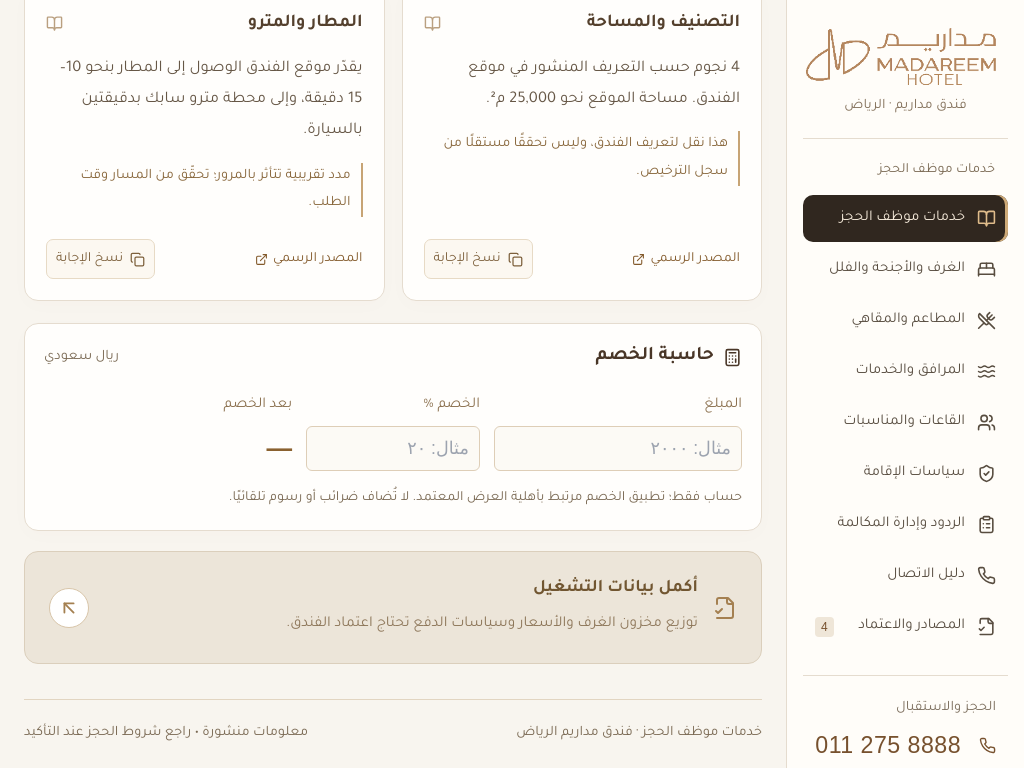
Test case: Madareem expanded employee guide › keeps the existing discount calculator functional
(page scrolled)
In the field labelled "المبلغ": (618, 448) left=494, top=426, right=742, bottom=471, type "200"
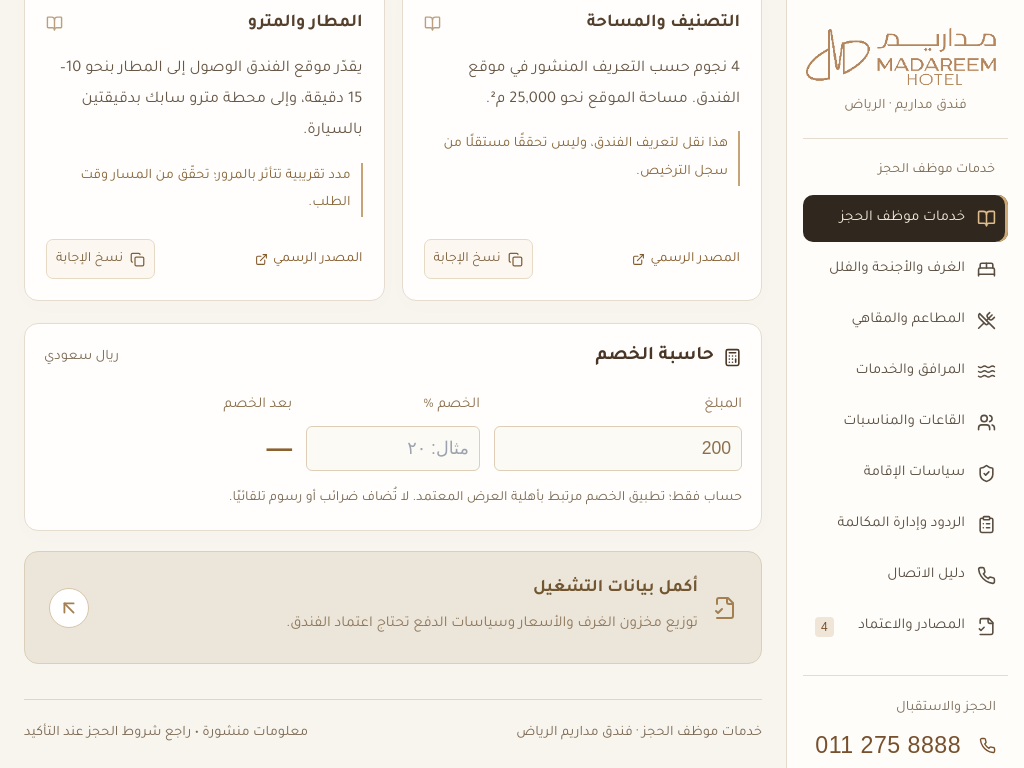
In the field labelled "الخصم %": (393, 448) left=306, top=426, right=480, bottom=471, type "20"
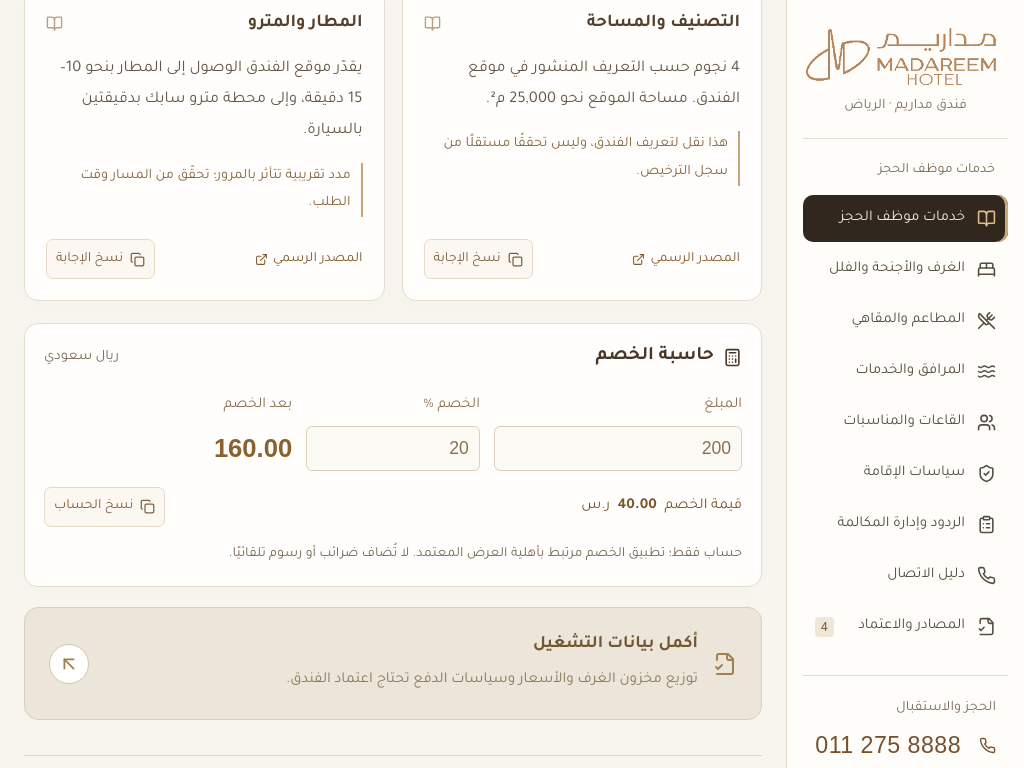
Expected: the text "160.00" is shown, left=214, top=434, right=292, bottom=462
